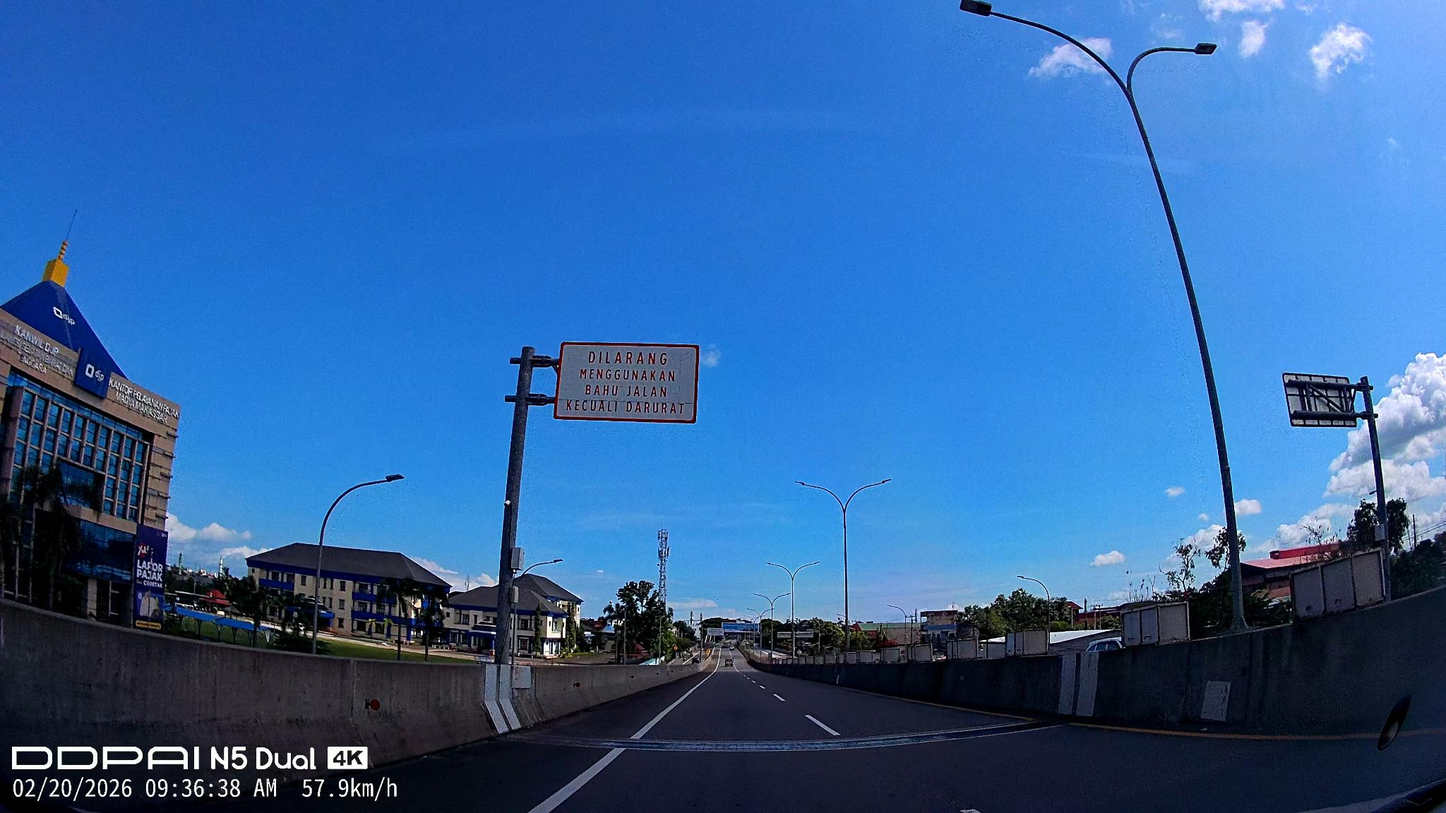rambu_teks: (553, 340, 700, 426)
